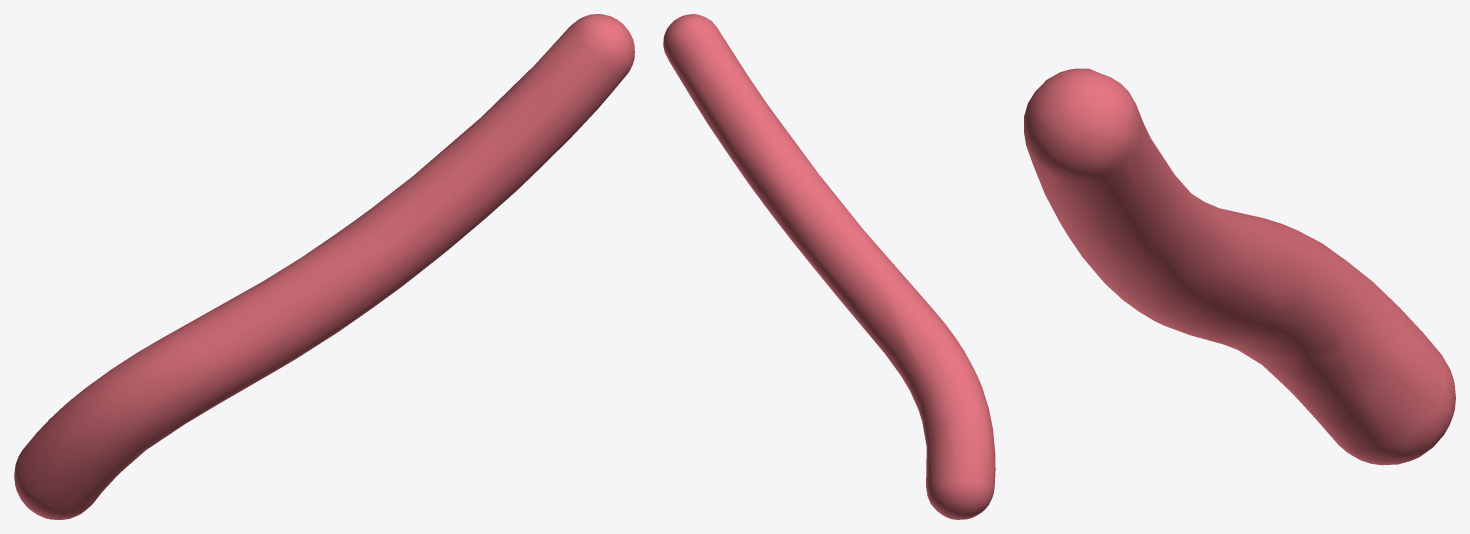
The model's file is fma70457_fj3095.glb.
3 views of the same model, side by side, from view 1: azimuth 30°, elevation 25°; view 2: azimuth 150°, elevation 25°; view 3: azimuth 270°, elevation 25° (orthographic). The views are drawn at different scales.
Visible parts, largest first — view 1: FMA70457_FJ3095; view 2: FMA70457_FJ3095; view 3: FMA70457_FJ3095.
Boxes of the visible parts, box(x1,y1,x2,y2) form: FMA70457_FJ3095: box(14, 14, 634, 519); FMA70457_FJ3095: box(663, 14, 995, 519); FMA70457_FJ3095: box(1024, 68, 1455, 465).
Size of the model in its own units: 0.0272 by 0.0235 by 0.0128.
